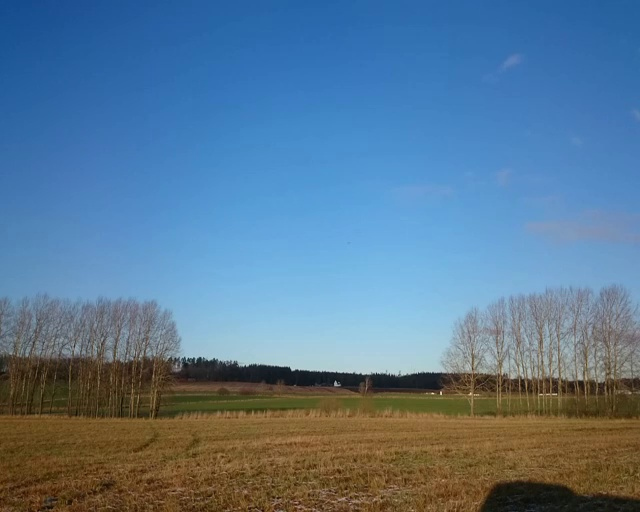DRONE: (347, 251, 354, 258)
